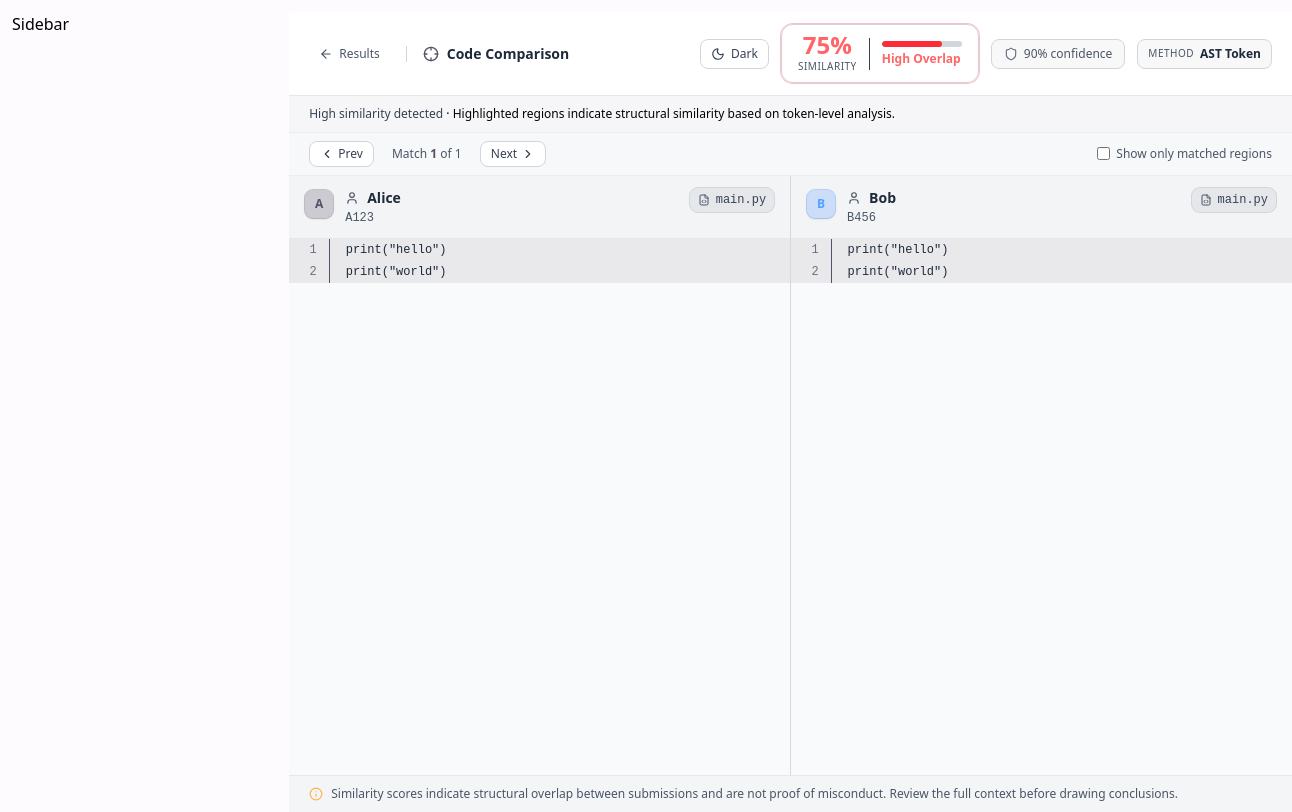
Test: SimilarityComparisonPage › toggles back to dark theme when clicked again
Check: the text "75%" is shown, box x1=803 y1=28 x2=852 y2=61
// Click to light mode
What coordinates should you click on to do the following:
click the button "Dark"
I would click on:
 (735, 54)
Its box is x1=700 y1=38 x2=769 y2=68.
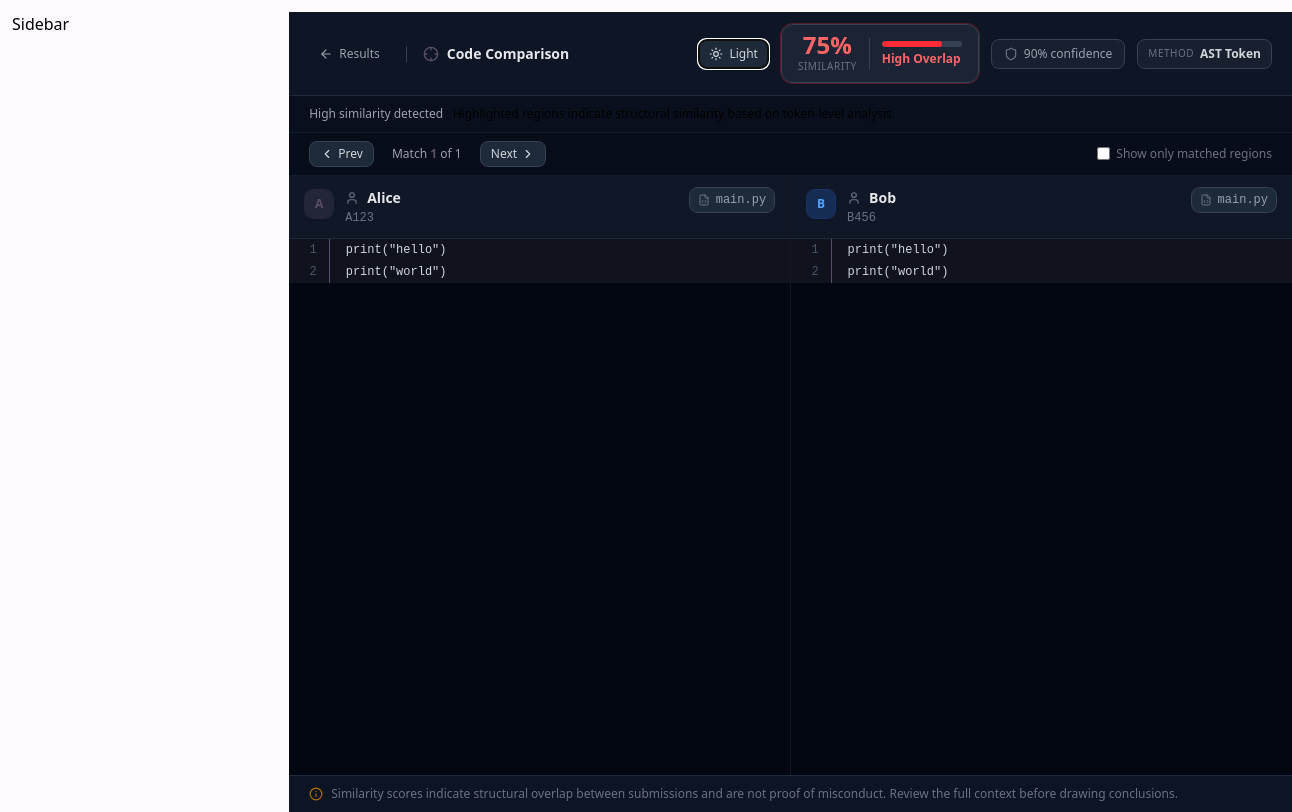
Check: the button named "dark" reads "Light"
// Click back to dark mode
What coordinates should you click on to do the following:
click the button named "dark"
I would click on:
 (734, 54)
Its box is x1=698 y1=38 x2=769 y2=68.
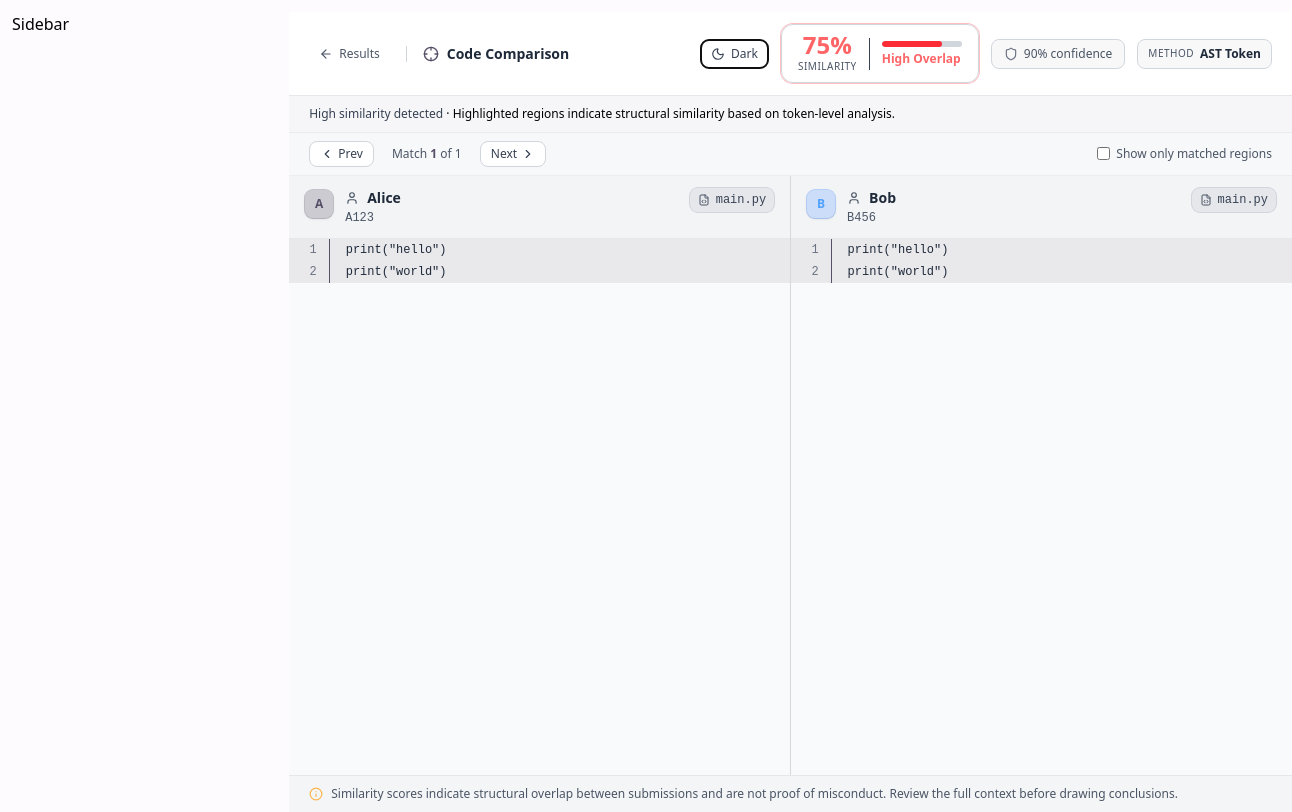
Check: the button "Dark" is shown, box x1=700 y1=38 x2=769 y2=68
